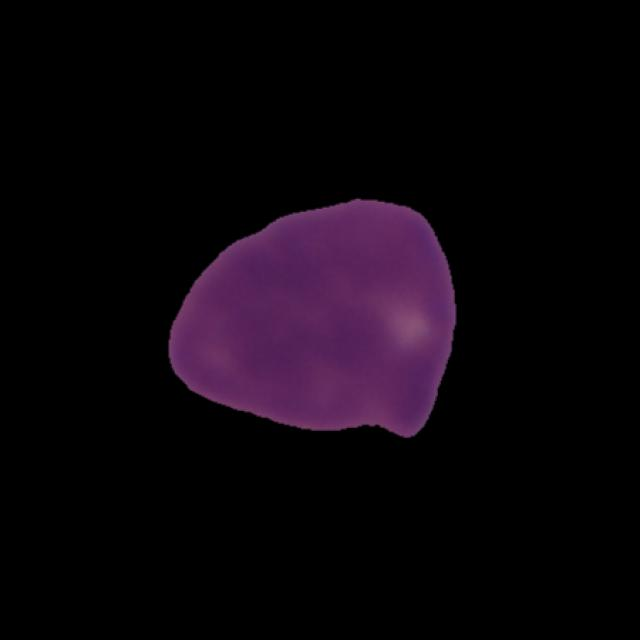ALL Negative Cells: (165, 204, 451, 446)
